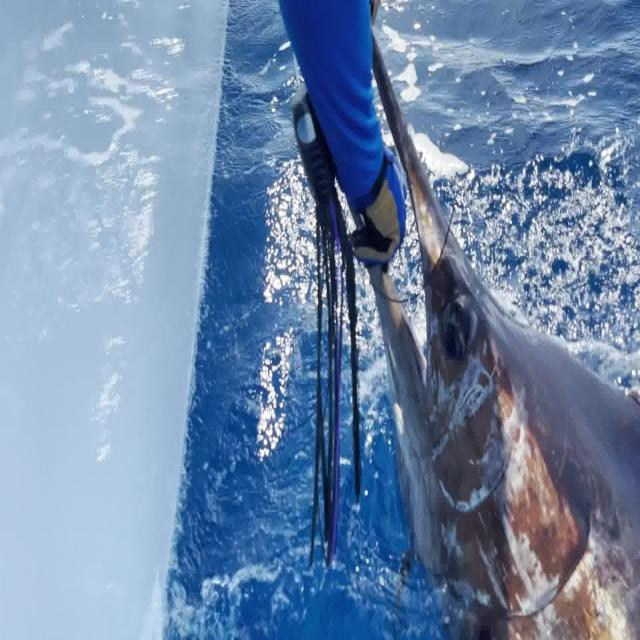Liberacion segura: (344, 1, 640, 639)
